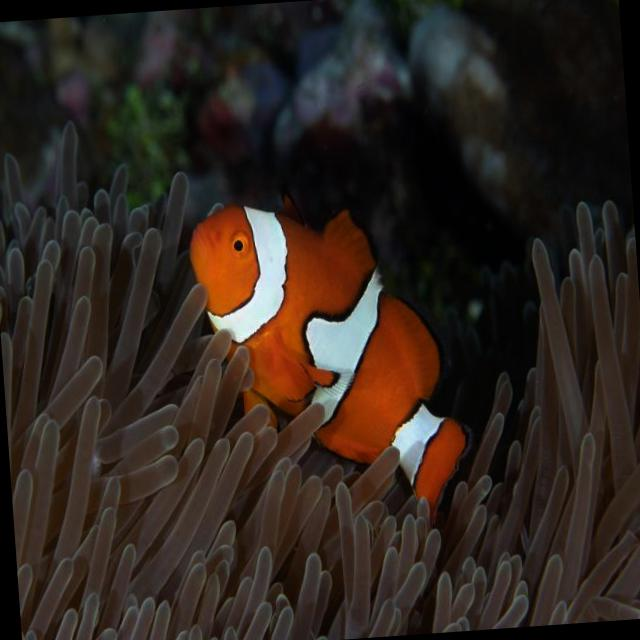ClownFish: (188, 185, 472, 518)
